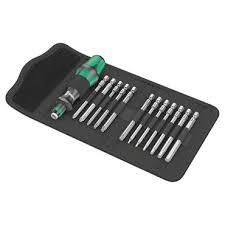screwdriver: (49, 53, 105, 120)
